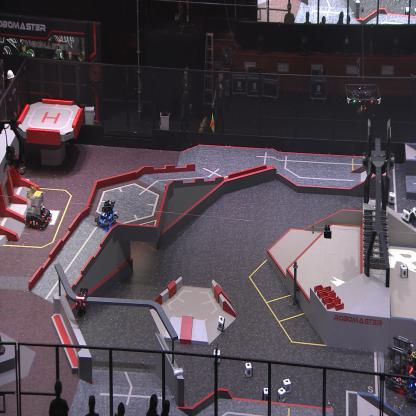car: (383, 333, 412, 391), (24, 184, 51, 229), (94, 198, 118, 231), (405, 349, 416, 406)
